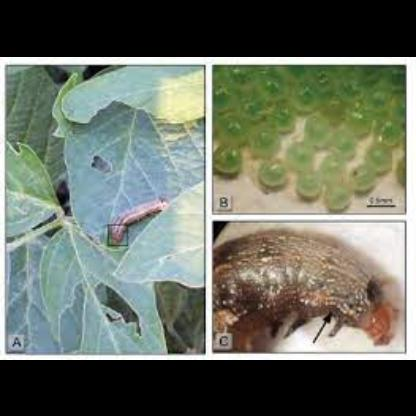agujero: (92, 276, 146, 338), (51, 278, 92, 356), (86, 148, 112, 174)
oruga: (102, 191, 170, 243)
